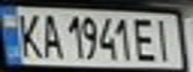1: (60, 11, 84, 60), (112, 15, 133, 62)
4: (97, 14, 118, 61)
9: (78, 12, 100, 60)
A: (36, 10, 63, 60)
E: (130, 15, 160, 63)
I: (151, 16, 178, 63)
K: (12, 9, 45, 60)
